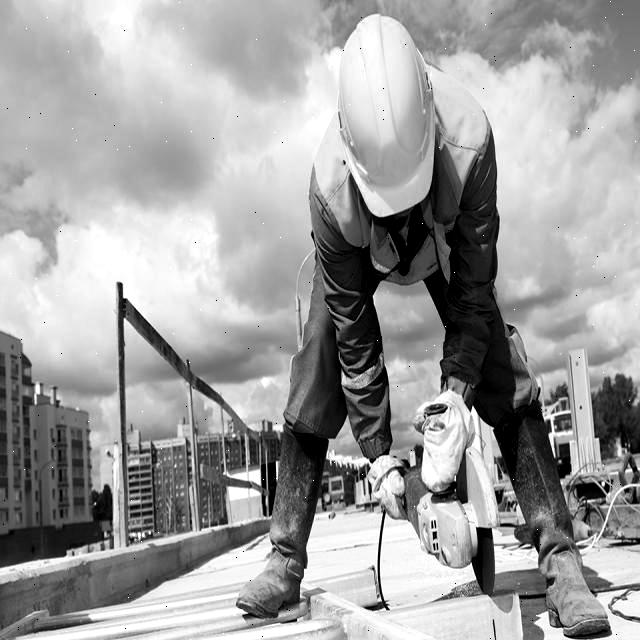Boots: (221, 537, 305, 619), (541, 562, 610, 638)
